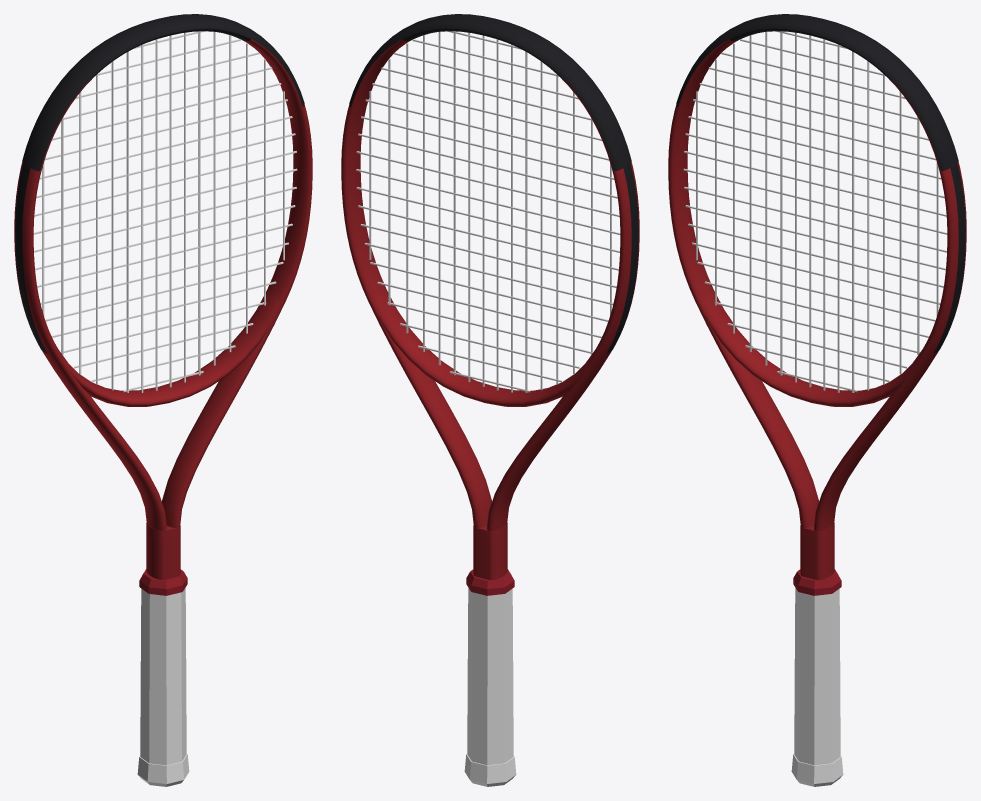
File: wilson-triad-five.glb
The picture shows the model from 3 angles, left to right: view 1: azimuth 30°, elevation 25°; view 2: azimuth 150°, elevation 25°; view 3: azimuth 330°, elevation 25°; orthographic projection.
Parts seen in each view (by area): view 1: frame, strings_mains, strings_crosses, grip, bumper, grommets, butt_cap, collar; view 2: frame, strings_mains, strings_crosses, grip, bumper, grommets, butt_cap, collar; view 3: frame, strings_mains, strings_crosses, grip, bumper, grommets, butt_cap, collar.
Boxes of the visible parts, x1,y1,x2,y2 form: frame: (14, 28, 312, 579); strings_mains: (42, 31, 284, 392); strings_crosses: (33, 31, 297, 392); grip: (140, 588, 186, 765); bumper: (22, 14, 304, 171); grommets: (15, 163, 47, 353); butt_cap: (137, 754, 189, 786); collar: (139, 569, 187, 595); frame: (341, 28, 639, 579); strings_mains: (369, 31, 611, 392); strings_crosses: (356, 31, 620, 392); grip: (467, 588, 513, 765); bumper: (349, 14, 631, 171); grommets: (606, 163, 638, 353); butt_cap: (464, 754, 516, 786); collar: (466, 569, 514, 595); frame: (668, 28, 966, 579); strings_mains: (696, 31, 938, 392); strings_crosses: (683, 31, 947, 392); grip: (794, 588, 840, 765); bumper: (676, 14, 958, 171); grommets: (933, 163, 965, 353); butt_cap: (791, 754, 843, 786); collar: (793, 569, 841, 595).
Size of the model in its own units: 0.2762 by 0.6861 by 0.0396.
